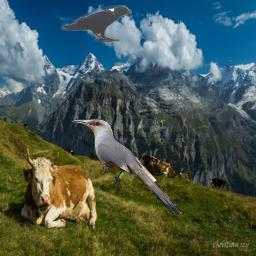Crow: (60, 5, 132, 42)
Cuckoo: (71, 118, 183, 217)
